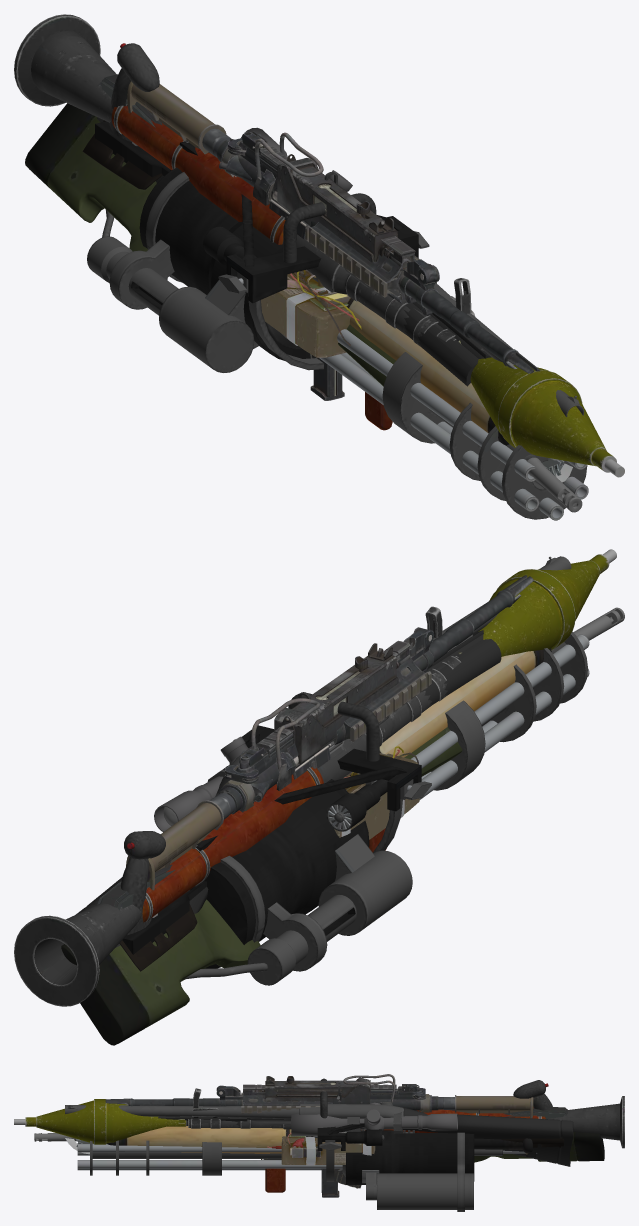
The model's file is arms.glb.
3 renders of one model, top to bottom at view 1: azimuth 30°, elevation 25°; view 2: azimuth 150°, elevation 25°; view 3: azimuth 270°, elevation 25°, orthographic. The views are drawn at different scales.
Parts seen in each view (by area): view 1: minigun, rpg, rifle, sniper, smg, c4, bat, shotgun, katana; view 2: minigun, rpg, sniper, rifle, smg, bat, shotgun, c4, katana; view 3: minigun, rpg, shotgun, rifle, sniper, bat, smg, c4, katana.
Part boxes in pixels (x1,y1,x2,y2): minigun: (87, 43, 588, 520); rpg: (14, 14, 624, 477); rifle: (127, 81, 540, 373); sniper: (25, 103, 582, 512); smg: (253, 132, 410, 400); c4: (261, 269, 361, 357); bat: (346, 294, 509, 445); shotgun: (97, 117, 584, 416); katana: (98, 74, 572, 482); minigun: (120, 632, 589, 985); rpg: (14, 549, 616, 1006); sniper: (61, 607, 624, 1045); rifle: (126, 575, 533, 890); smg: (251, 643, 410, 790); bat: (379, 648, 551, 757); shotgun: (76, 556, 571, 947); c4: (334, 746, 419, 839); katana: (97, 864, 199, 910); minigun: (77, 1078, 553, 1211); rpg: (14, 1083, 624, 1192); shotgun: (65, 1104, 573, 1166); rifle: (105, 1084, 533, 1188); sniper: (34, 1102, 604, 1162); bat: (106, 1126, 532, 1153); smg: (252, 1074, 395, 1197); c4: (267, 1132, 375, 1165); katana: (65, 1107, 567, 1154).
Size of the model in its own units: 0.261 by 0.2557 by 1.2.
19 materials, 19 textured.
